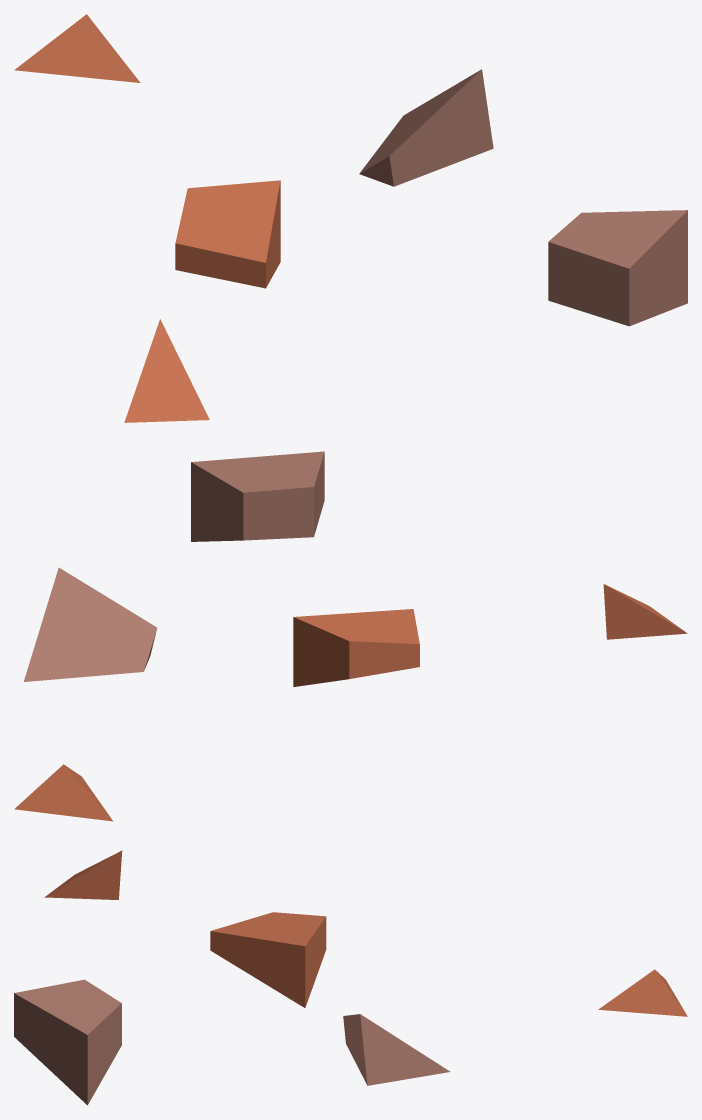
File: Brick_Pile_s_05.fbx
The picture shows the model from 3 angles, top to bottom: view 1: azimuth 30°, elevation 25°; view 2: azimuth 150°, elevation 25°; view 3: azimuth 270°, elevation 25°; orthographic projection. The views are drawn at different scales.
Visible parts, largest first — view 1: Brick_Pile_s_05; view 2: Brick_Pile_s_05; view 3: Brick_Pile_s_05.
Part boxes in pixels (x1,y1,x2,y2): Brick_Pile_s_05: [14, 14, 687, 422]; Brick_Pile_s_05: [14, 451, 687, 821]; Brick_Pile_s_05: [14, 850, 687, 1105].
Bounding box in the file's own units: 26.54 × 4.81 × 35.81.
